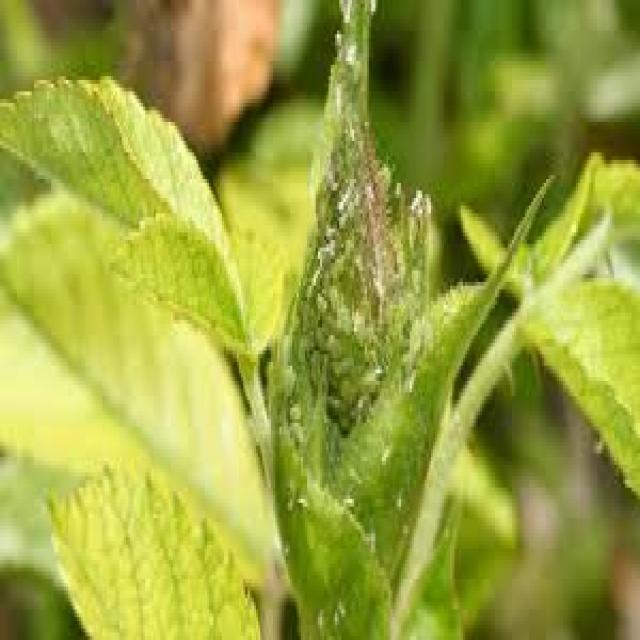aphid: (290, 328, 314, 370), (358, 366, 382, 404), (305, 343, 324, 385), (334, 369, 356, 404), (332, 404, 354, 438), (322, 324, 341, 358), (312, 282, 328, 320)
